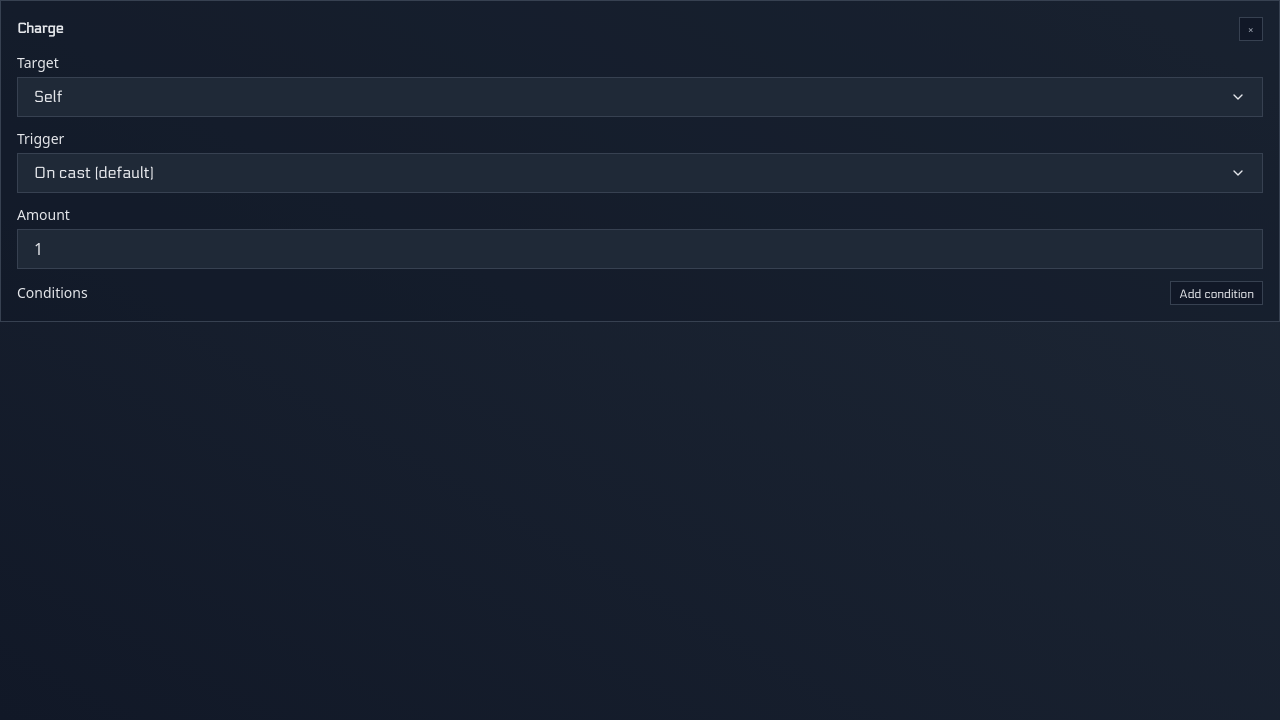
Test: AbilityCard › Target select for charge abilities (#399 Change 1a) › offers only self, all-allies and enemy for a fresh charge ability
Step 1. Click the label labelled "Target" → (38,62), box [17,53,59,72]
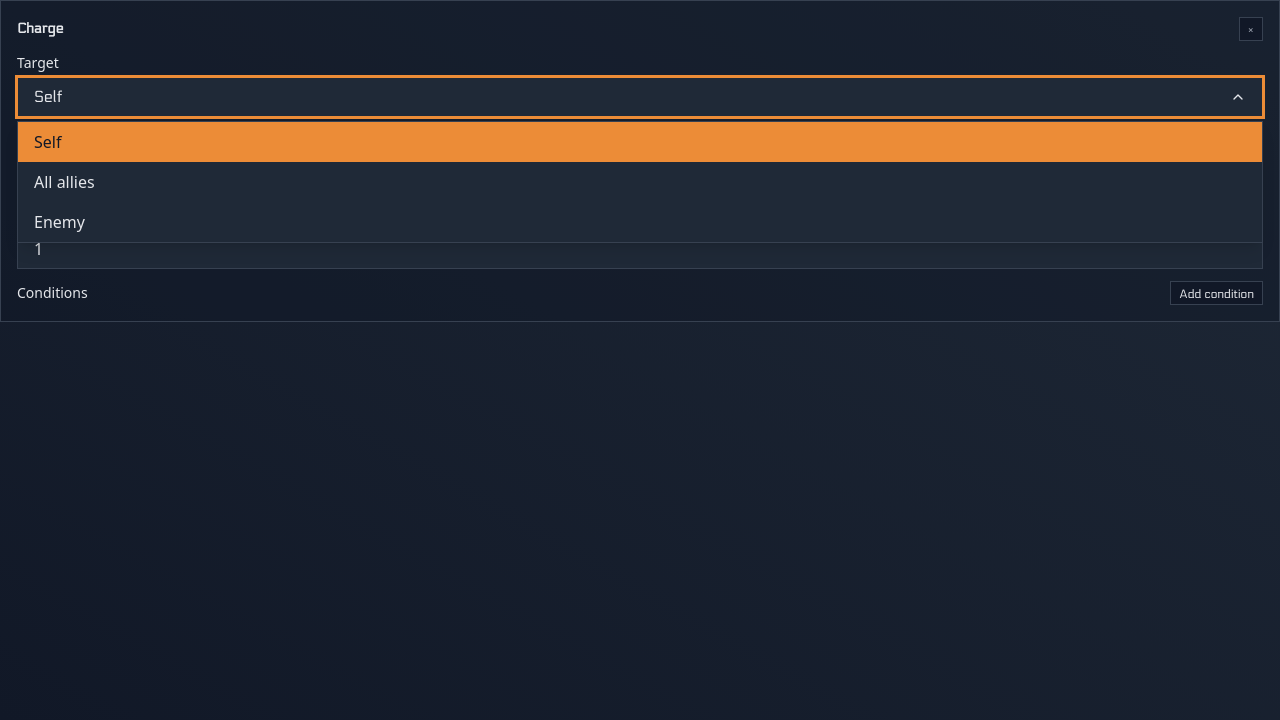
Check: the options read "Self", "All allies", "Enemy", in this order, box [18,122,1262,162]; [34,171,95,193]; [34,211,85,233]
